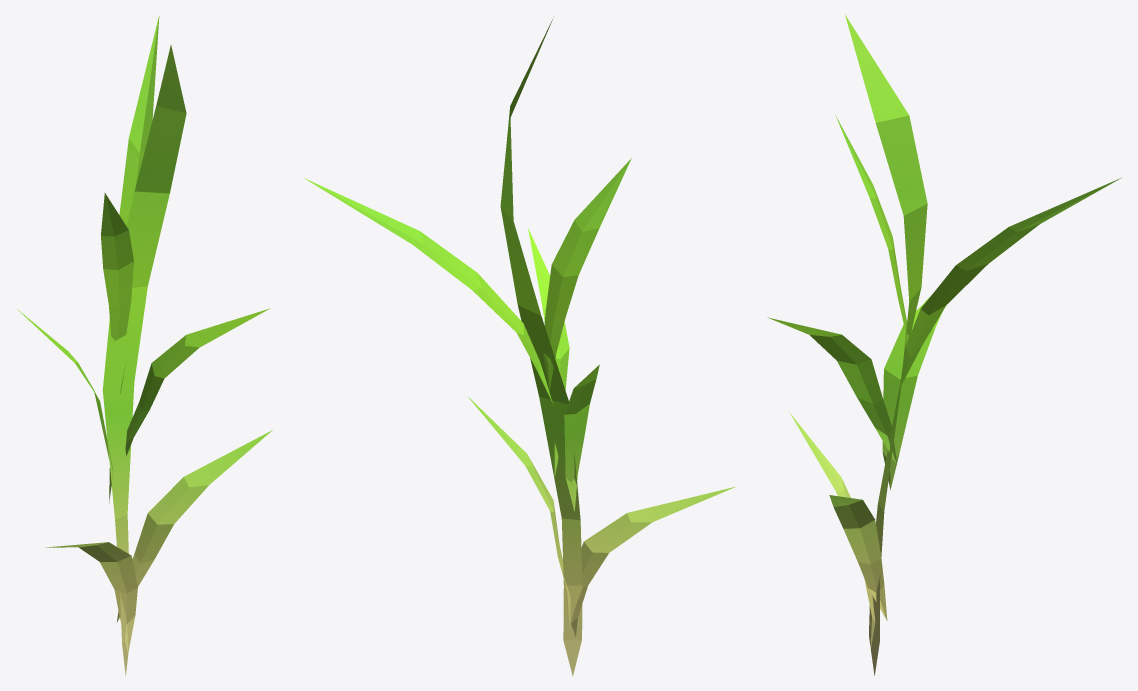
Rendered from Rice4_LOD.fbx.
3 views of the same model, side by side, from view 1: azimuth 30°, elevation 25°; view 2: azimuth 150°, elevation 25°; view 3: azimuth 270°, elevation 25° (orthographic). The views are drawn at different scales.
Visible parts, largest first — view 1: Rice4_LOD0; view 2: Rice4_LOD0; view 3: Rice4_LOD0.
Boxes of the visible parts, box(x1,y1,x2,y2) form: Rice4_LOD0: box(17, 15, 272, 676); Rice4_LOD0: box(304, 17, 736, 676); Rice4_LOD0: box(767, 15, 1121, 675).
Size of what is drawn, in the model's own units: 83.35 by 186 by 88.51.
Materials: 1 (1 with a texture image).
